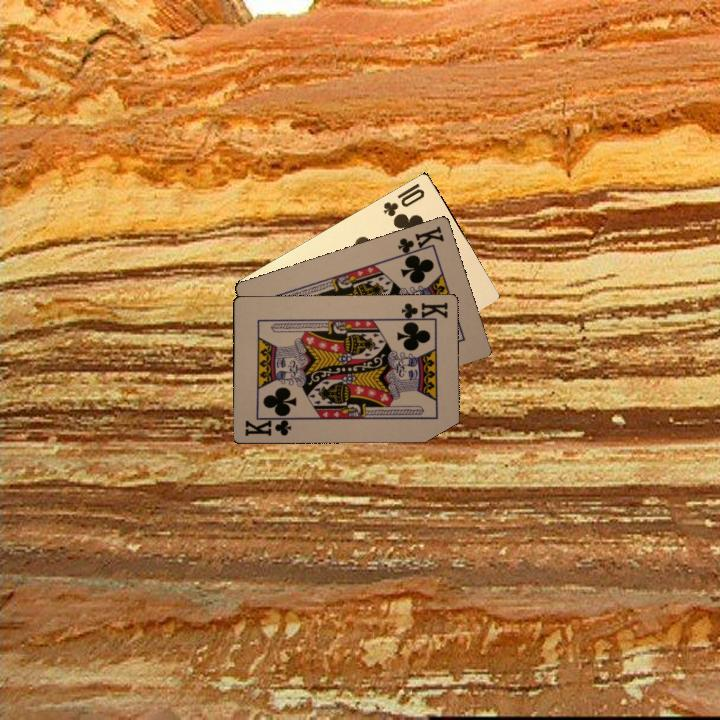10c: (379, 179, 427, 223)
Kc: (394, 221, 447, 261), (395, 297, 450, 323), (241, 413, 295, 439)
